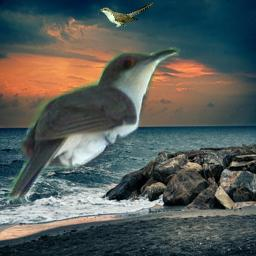Cuckoo: (6, 47, 181, 204), (98, 2, 153, 27)
